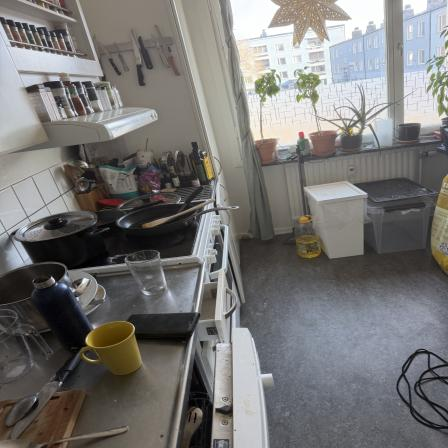blue_bottle: (29, 278, 94, 352)
phone: (120, 312, 204, 339)
yellow_cup: (81, 323, 149, 378)
